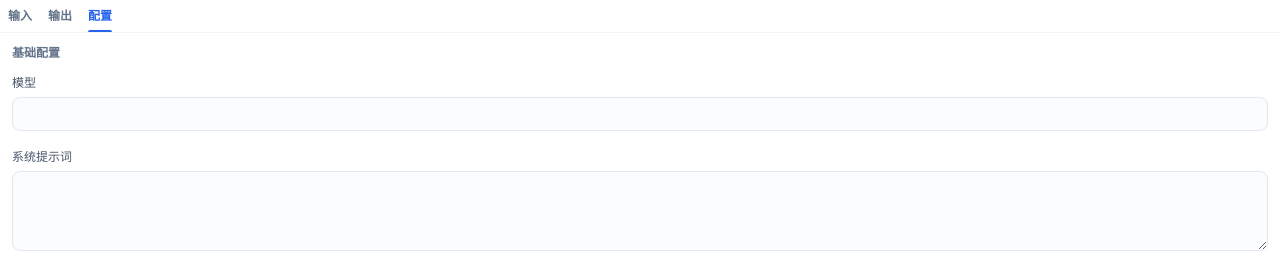
Test case: NodeConfigTabs › LLM 文本输出页只展示主输出字段
The width and height of the screenshot is (1280, 268).
Click the tab "输出" at (60, 20), box 48,8 -> 72,32
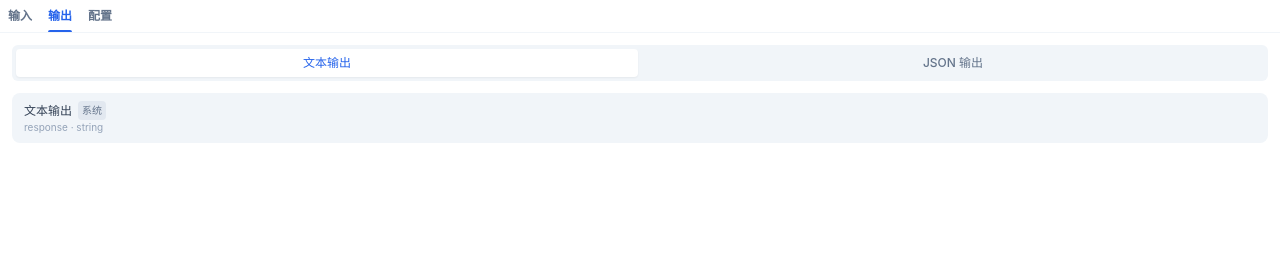
Now the text "response · string" is shown, box 24,121 -> 103,133
